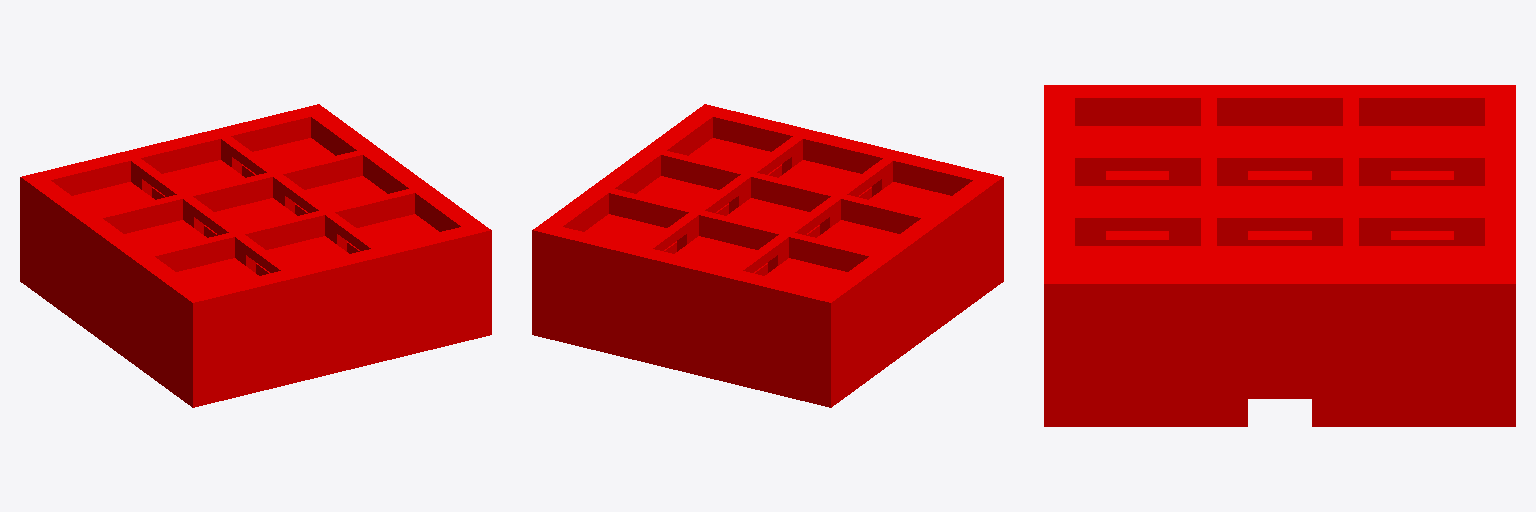
URDF robot description (board):
<?xml version="1.0" ?>
<robot name="board">
  <link name="base_link">
    <inertial>
      <!-- STL bounding box 중심 기준 (단위: m) -->
      <origin xyz="0.075 0.075 0.025" rpy="0 0 0"/>
      <!-- 3D 프린터 재질 + 인필 감안한 질량 근사 -->
      <mass value="0.53"/>
      <!-- 직육면체 근사 관성 모멘트 (kg·m^2), COM 기준 -->
      <inertia
        ixx="0.00110"
        iyy="0.00110"
        izz="0.00197"
        ixy="0.0"
        iyz="0.0"
        ixz="0.0" />
    </inertial>

    <visual>
      <origin xyz="0 0 0" rpy="0 0 0"/>
      <geometry>
        <mesh
          filename="package://kat_description/meshes/board/board_plate.stl"
          scale="0.001 0.001 0.001" />
      </geometry>
      <material name="silver">
        <color rgba="1 0 0 1"/>
      </material>
    </visual>

    <collision>
      <origin xyz="0 0 0" rpy="0 0 0"/>
      <geometry>
        <mesh
          filename="package://kat_description/meshes/board/board_plate.stl"
          scale="0.001 0.001 0.001" />
      </geometry>
    </collision>
  </link>

  <gazebo>
    <plugin name="control" filename="libgazebo_ros_control.so"/>
  </gazebo>
</robot>

--- Render facts (derived) ---
The picture shows the robot from 3 angles, left to right: view 1: azimuth 30°, elevation 25°; view 2: azimuth 150°, elevation 25°; view 3: azimuth 270°, elevation 25°; orthographic projection.
Model board with 1 links and 0 joints (none), rooted at base_link, posed every joint at zero.
Visible links, largest first — view 1: base_link; view 2: base_link; view 3: base_link.
Link boxes in pixels (x1,y1,x2,y2): base_link: [20, 104, 491, 407]; base_link: [532, 104, 1003, 407]; base_link: [1044, 85, 1515, 426].
Bounding box of the posed robot: 0.149 × 0.149 × 0.05 m (x, y, z).
1 mesh visuals loaded from 1 distinct referenced files (1 binary STL).
